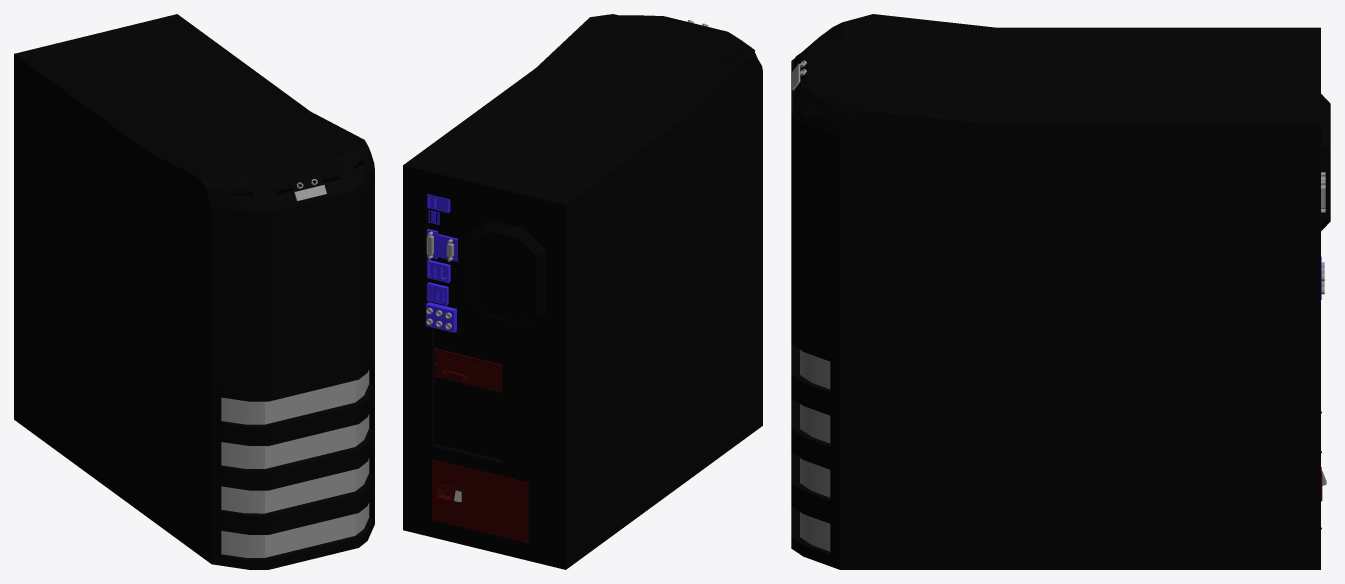
The model's file is PC unwrap extra 1.FBX.
The picture shows the model from 3 angles, left to right: view 1: azimuth 30°, elevation 25°; view 2: azimuth 150°, elevation 25°; view 3: azimuth 270°, elevation 25°; orthographic projection. The views are drawn at different scales.
Visible parts, largest first — view 1: open side computer case, Roof Case, Front case, Door Front case, Back Case; view 2: open side computer case, Back Case, Roof Case, back fan window, Cover 1, Power suplly, Motherboard, Video kaart, Front case, Cover 2, Door Front case; view 3: Back case, Roof Case, Door Front case, Front case, Base Case, Back Case, back fan window.
Part boxes in pixels (x1,y1,x2,y2): open side computer case: [17, 56, 207, 558]; Roof Case: [16, 16, 374, 214]; Front case: [204, 347, 374, 569]; Door Front case: [204, 168, 374, 392]; Back Case: [14, 14, 179, 421]; open side computer case: [569, 64, 758, 567]; Back Case: [403, 163, 568, 569]; Roof Case: [406, 14, 762, 204]; back fan window: [471, 221, 545, 325]; Cover 1: [434, 328, 502, 459]; Power suplly: [432, 459, 528, 543]; Motherboard: [426, 194, 457, 377]; Video kaart: [435, 349, 502, 392]; Front case: [755, 248, 762, 430]; Cover 2: [428, 199, 457, 330]; Door Front case: [755, 71, 762, 253]; Back case: [858, 137, 1313, 560]; Roof Case: [791, 14, 1320, 137]; Door Front case: [791, 61, 858, 353]; Front case: [791, 332, 858, 569]; Base Case: [858, 561, 1313, 569]; Back Case: [1313, 27, 1320, 569]; back fan window: [1321, 94, 1330, 230].
Size of the model in its own units: 23.72 by 52.35 by 55.72.
